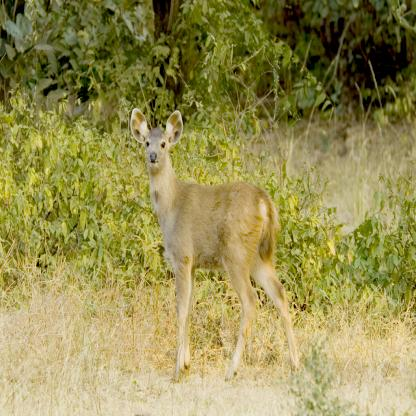Deer: (133, 105, 299, 382)
